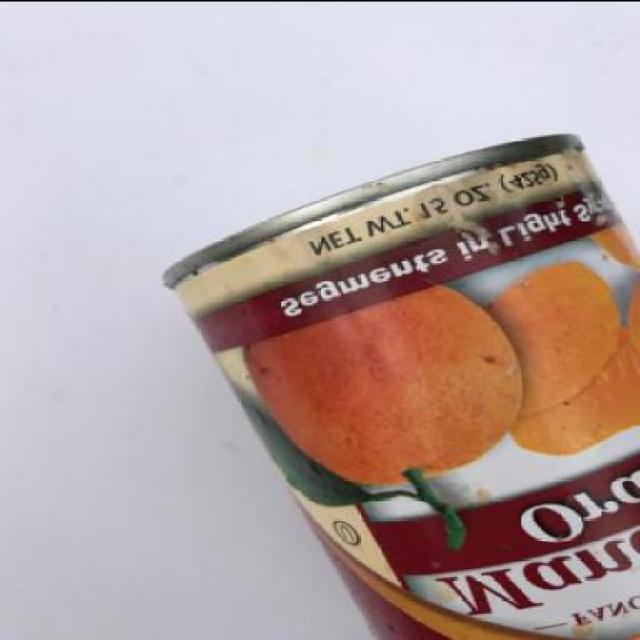METAL: (158, 131, 638, 638)
